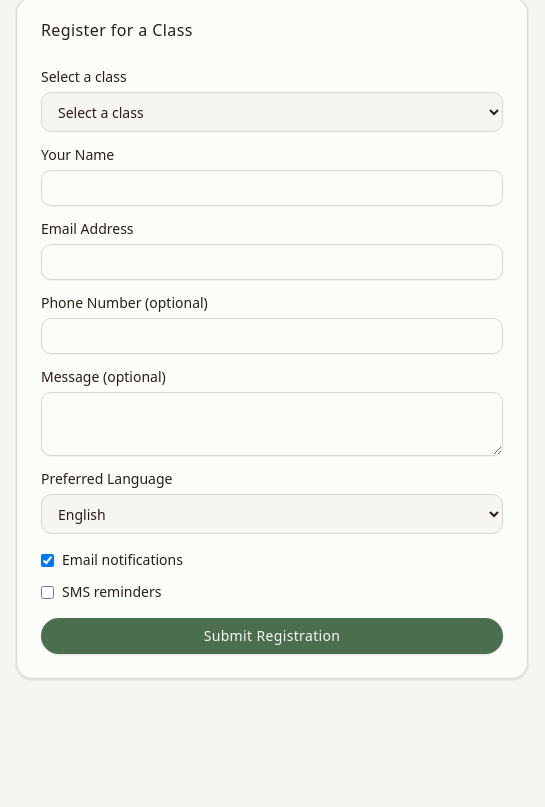
Test: RegistrationForm - Consent Flow › Consent Warning and Modal › should disable submit button when consent is missing even with date selected
The width and height of the screenshot is (545, 807).
Select "Morning Hatha - Free" in the dropdown labelled "Select a class" at (272, 112), box x1=41 y1=92 x2=503 y2=132
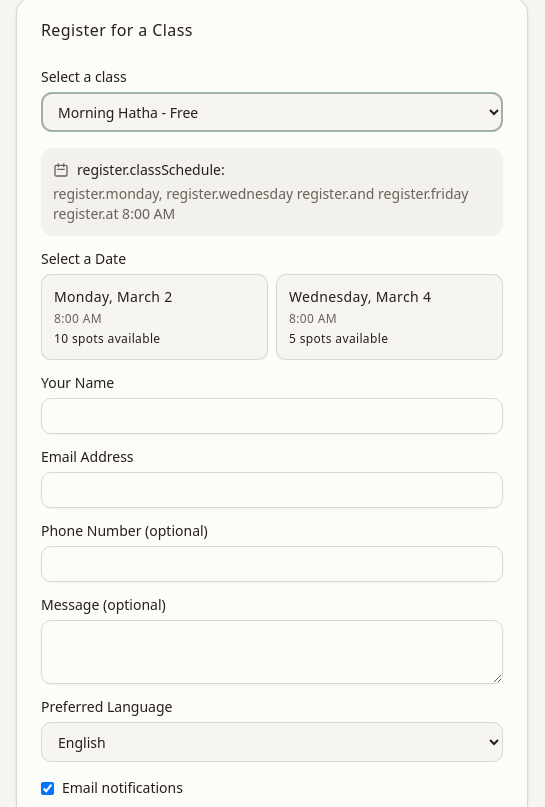
Click the text "Monday, March 2" at (113, 297), box x1=54 y1=287 x2=173 y2=307
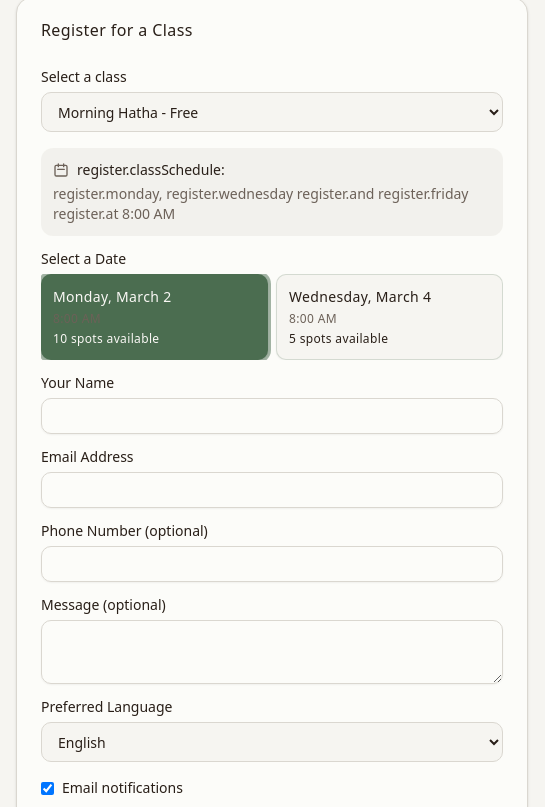
Type "john@example.com" into the field labelled "Email Address" at (272, 490), box x1=41 y1=472 x2=503 y2=508
(page scrolled)
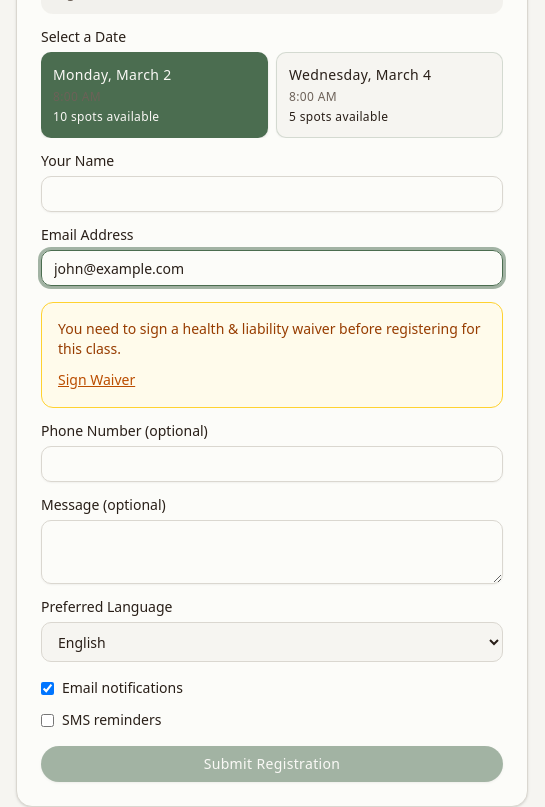
Expected: the button "Submit Registration" is disabled, x1=41 y1=746 x2=503 y2=782
